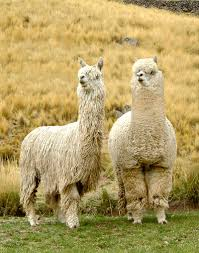alpaca: (18, 56, 105, 228), (108, 56, 177, 225)
